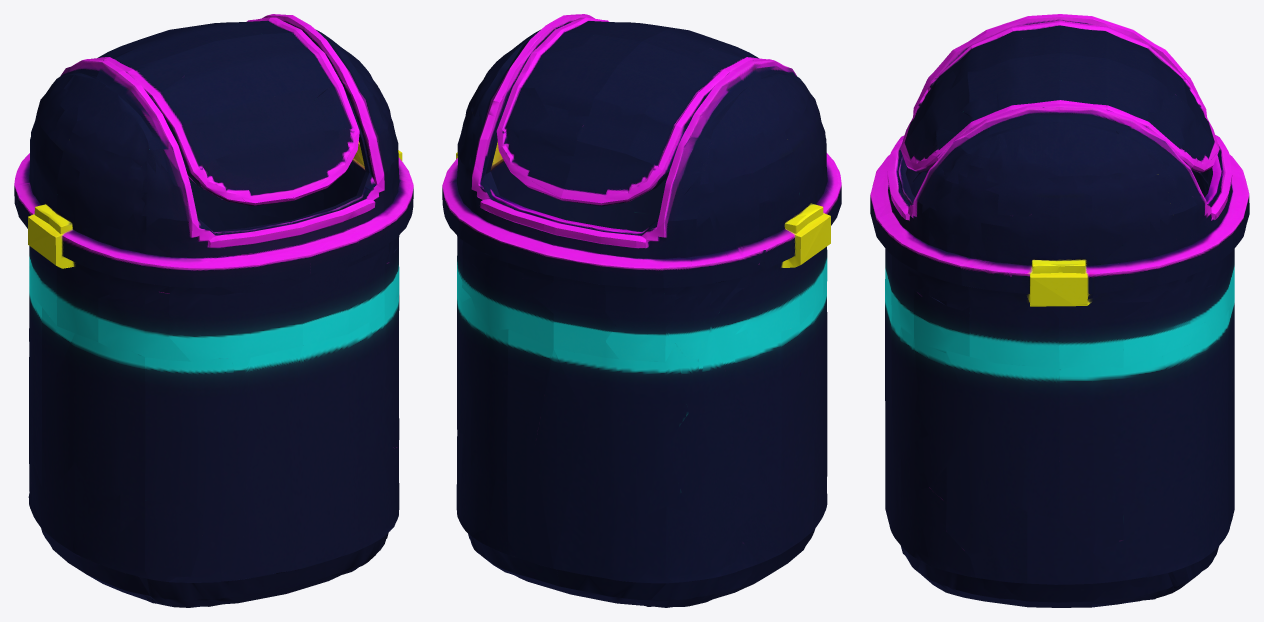
Rendered from tacho-basura.glb.
3 renders of one model, left to right at view 1: azimuth 30°, elevation 25°; view 2: azimuth 150°, elevation 25°; view 3: azimuth 270°, elevation 25°, orthographic.
Parts seen in each view (by area): view 1: Mesh_0; view 2: Mesh_0; view 3: Mesh_0.
Boxes of the visible parts, <box> form: Mesh_0: <box>14,14,413,607</box>; Mesh_0: <box>442,14,841,607</box>; Mesh_0: <box>870,14,1249,607</box>.
Size of the model in its own units: 1.38 by 1.9 by 1.33.
1 material, 1 textured.
